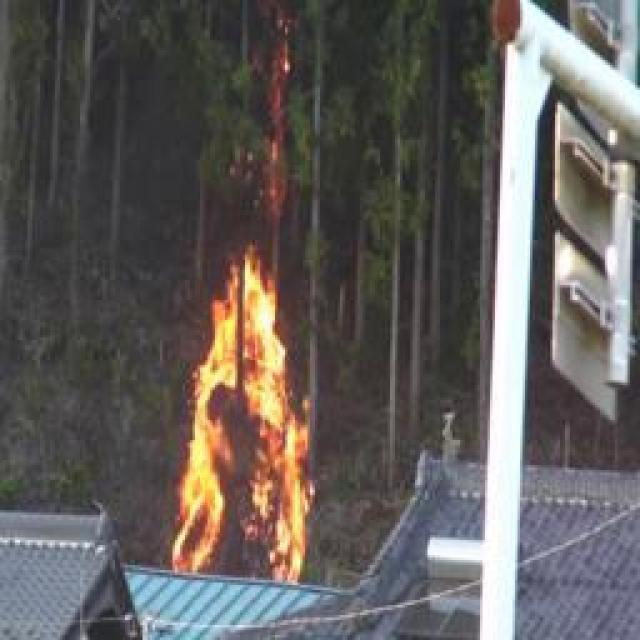Fire: (173, 253, 328, 586)
